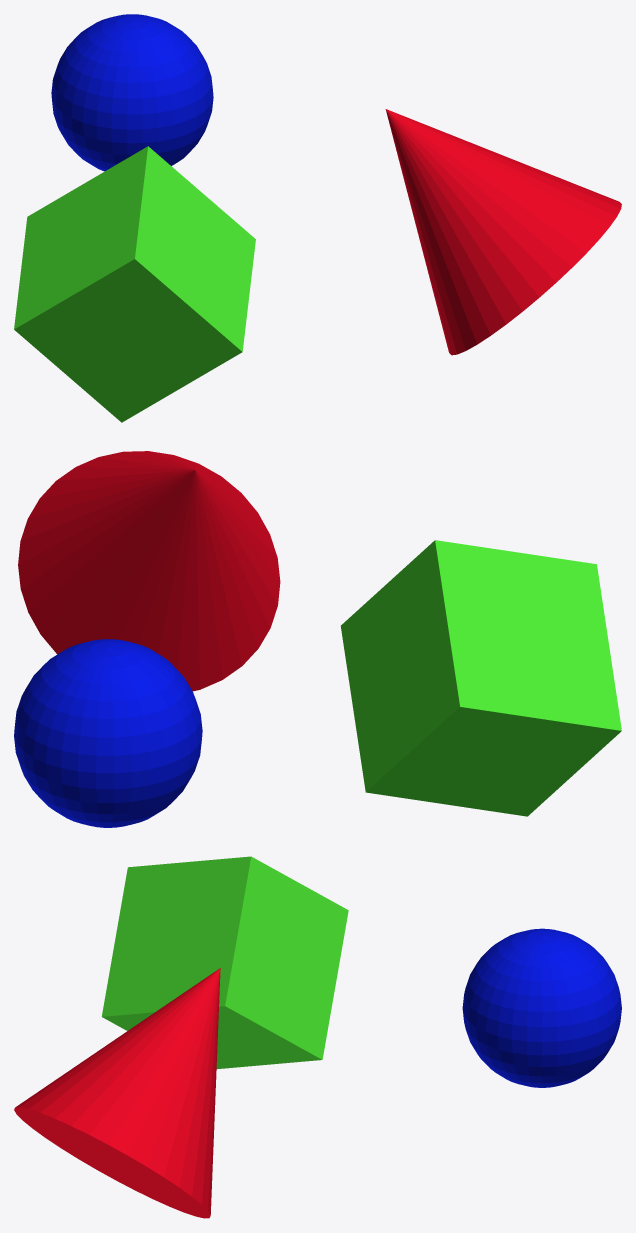
The model's file is single_objects.glb.
3 renders of one model, top to bottom at view 1: azimuth 30°, elevation 25°; view 2: azimuth 150°, elevation 25°; view 3: azimuth 270°, elevation 25°, orthographic. The views are drawn at different scales.
Parts seen in each view (by area): view 1: Cube, Cone, Sphere; view 2: Cube, Cone, Sphere; view 3: Cube, Cone, Sphere.
Part boxes in pixels (box(x1,y1,x2,y2)): Cube: box(14, 146, 255, 422); Cone: box(385, 109, 621, 355); Sphere: box(51, 14, 213, 171); Cube: box(340, 540, 621, 816); Cone: box(18, 451, 280, 691); Sphere: box(14, 639, 202, 827); Cube: box(101, 856, 348, 1069); Cone: box(14, 968, 220, 1218); Sphere: box(462, 928, 621, 1087).
Size of the model in its own units: 7.83 by 3.32 by 7.63.
